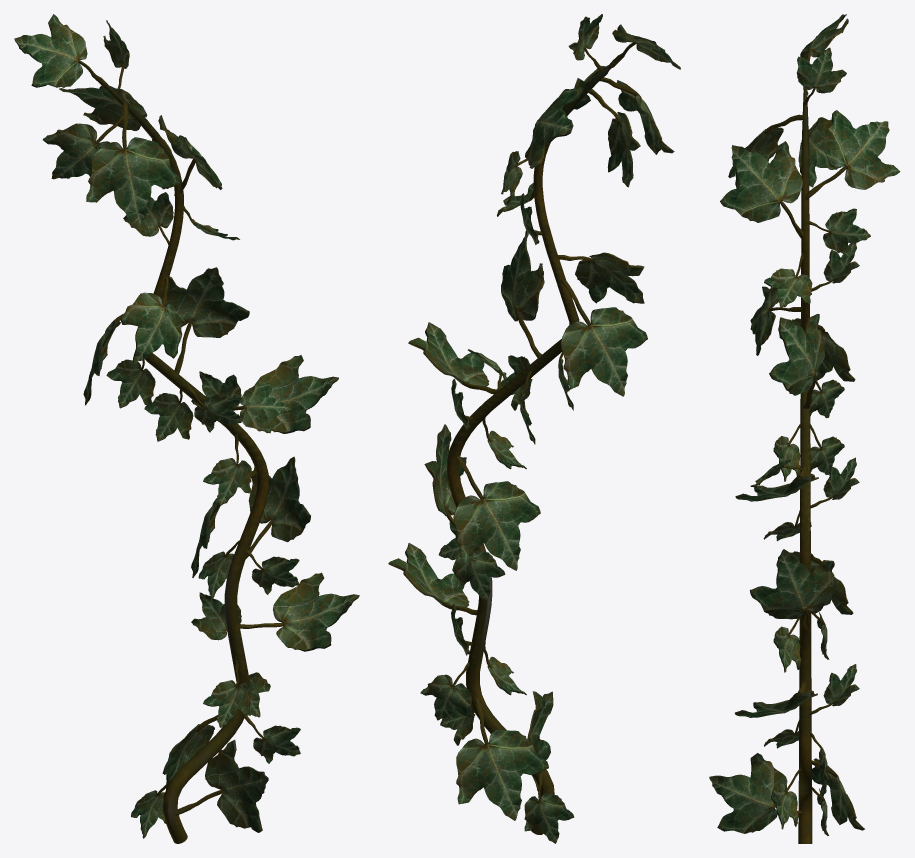
The model's file is single_ivy_vine.glb.
3 views of the same model, side by side, from view 1: azimuth 30°, elevation 25°; view 2: azimuth 150°, elevation 25°; view 3: azimuth 270°, elevation 25° (orthographic). The views are drawn at different scales.
Parts seen in each view (by area): view 1: VineUpdated; view 2: VineUpdated; view 3: VineUpdated.
Boxes of the visible parts, x1,y1,x2,y2 form: VineUpdated: (14,14,359,843); VineUpdated: (388,14,680,843); VineUpdated: (709,14,900,843).
Bounding box in the file's own units: 7.94 × 21.33 × 4.74.
1 material, 1 textured.
